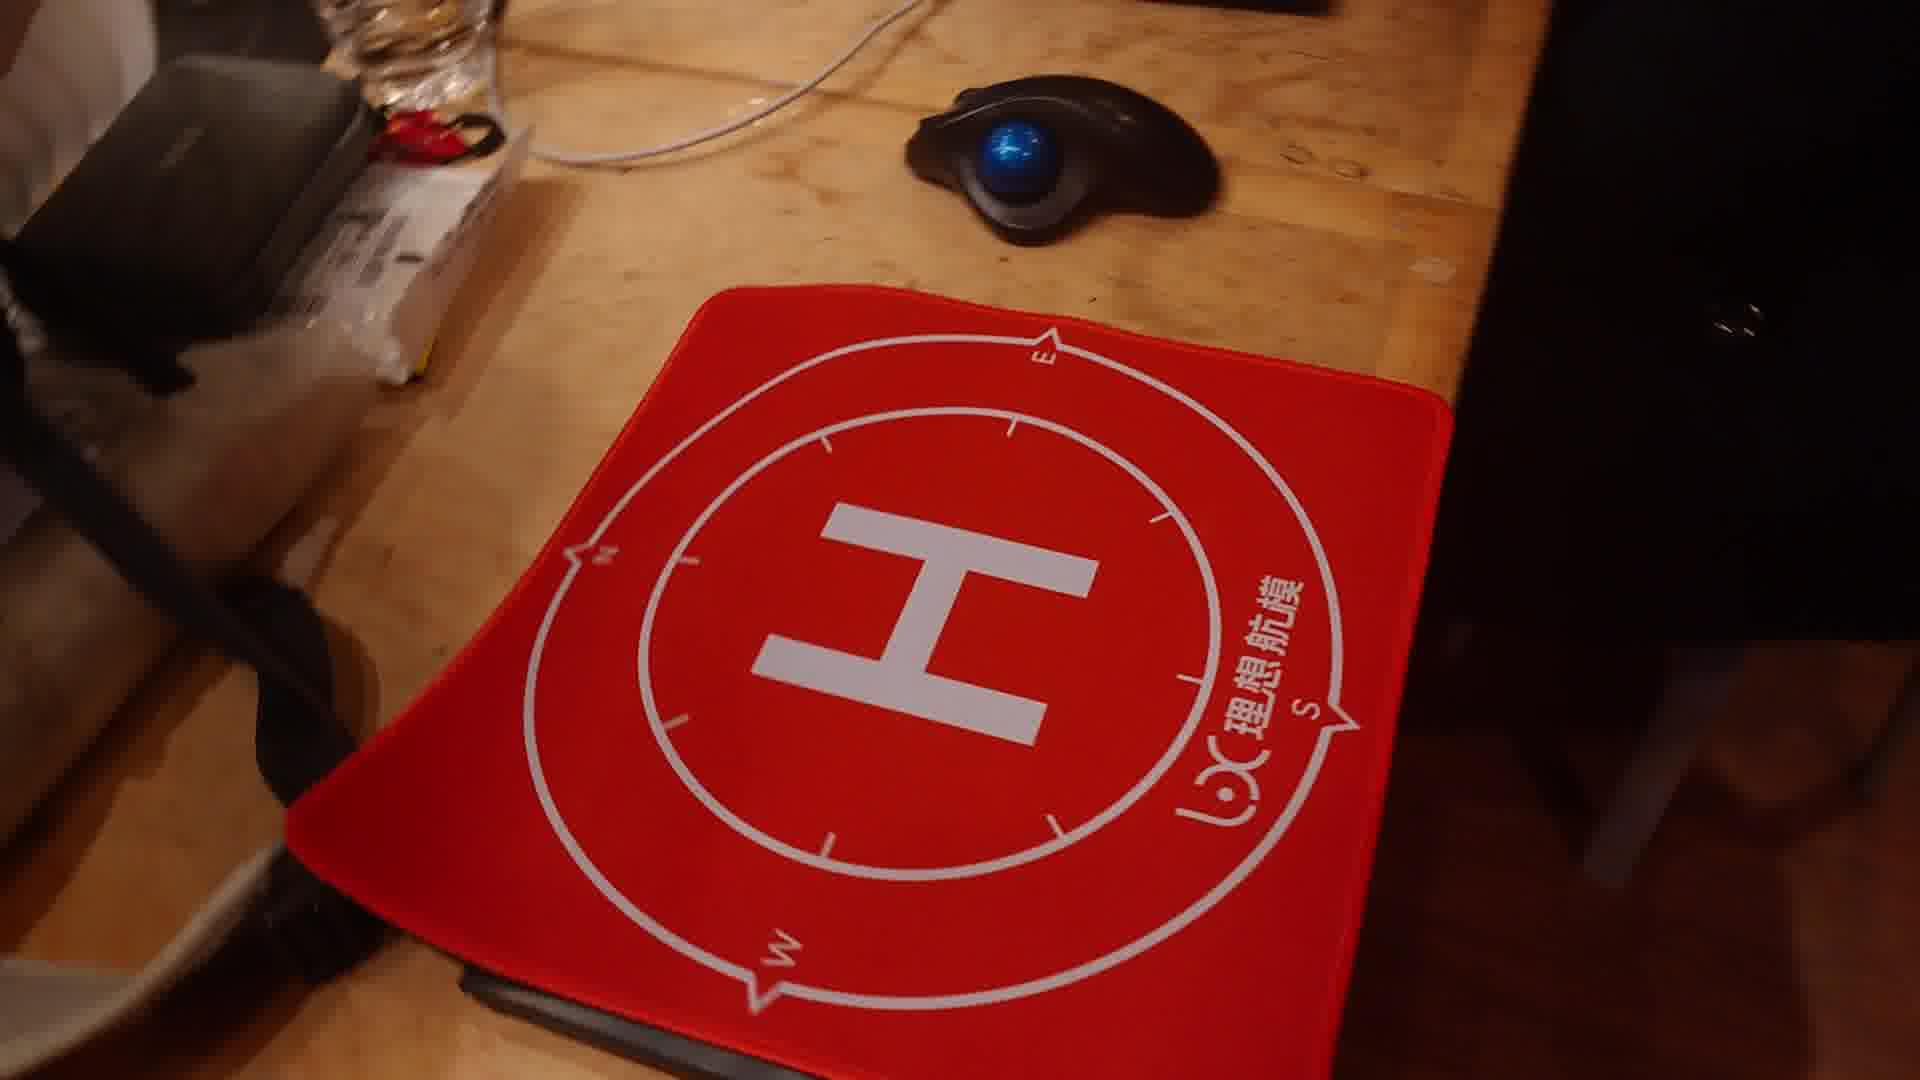H: (748, 498, 1101, 746)
